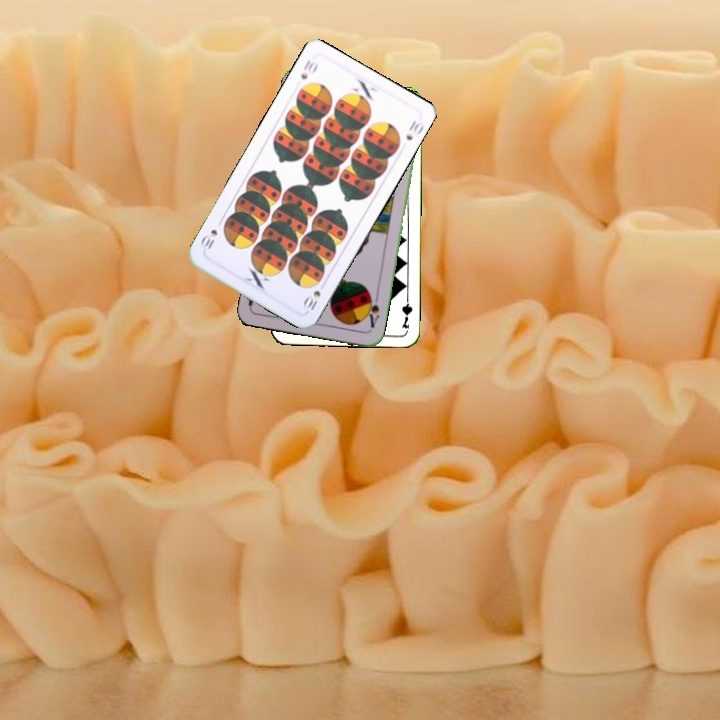G7: (398, 291, 415, 331)
S10: (299, 286, 323, 313), (296, 56, 320, 82)
SA: (362, 291, 382, 330)
